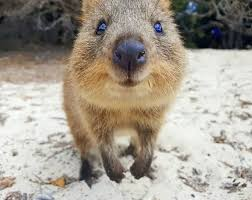quokka: (52, 0, 198, 179)
